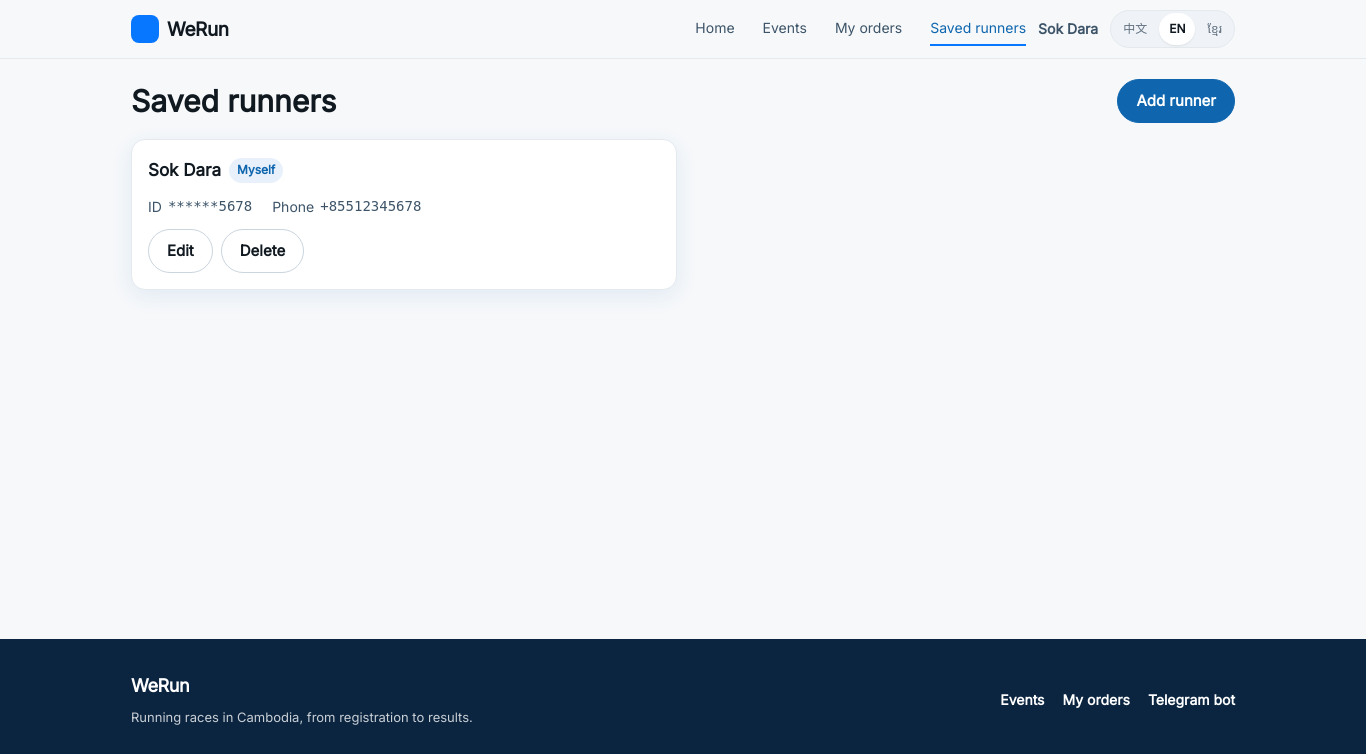
ProfilesPage › 编辑时证件号留空，请求体不带 idNo
The image size is (1366, 754).
Click the button with test id "profile-edit-7" at (180, 251), box [148,229,213,273]
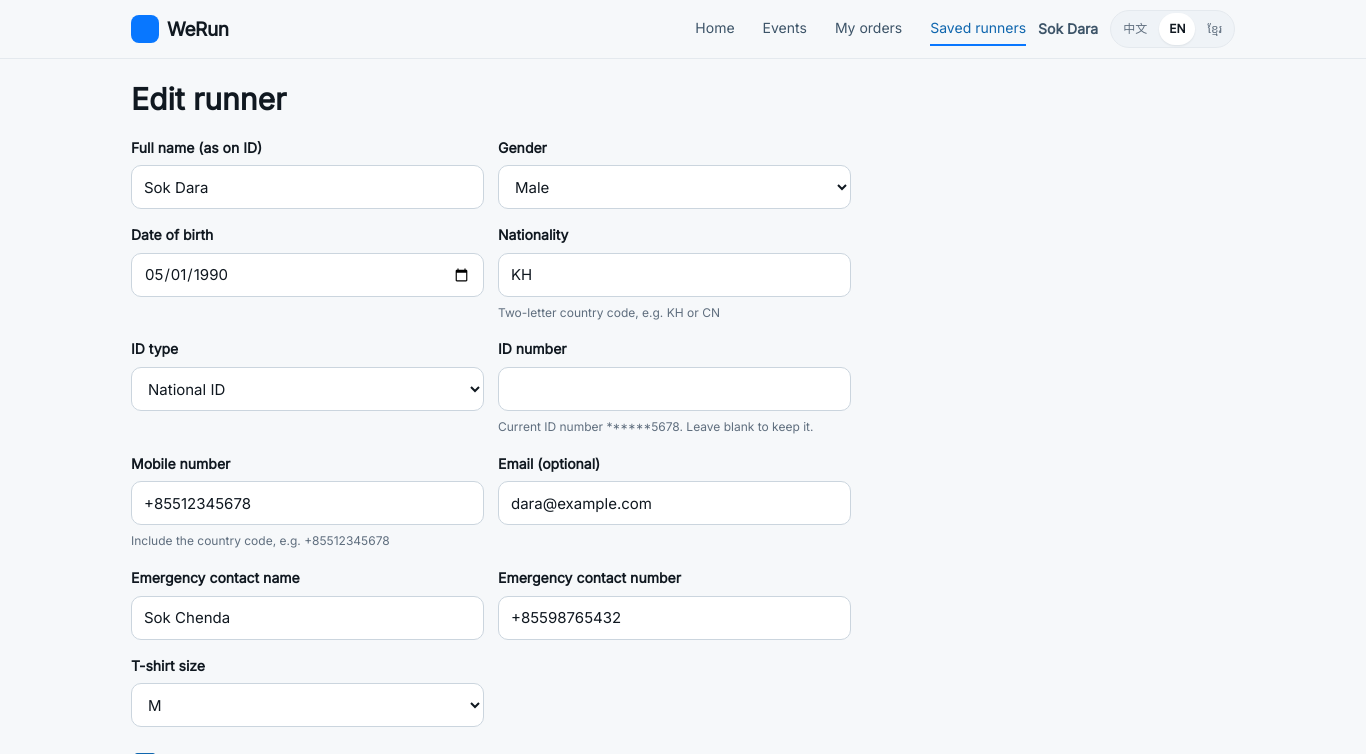
Expected: the field with test id "profile-idNo" is empty, [498,367,851,411]
Result: the field with test id "profile-fullName" holds "Sok Dara"
Result: the text "Current ID number ******5678. Leave blank to keep it." is shown at [498,417,851,438]
Replace the text in the field with test id "profile-fullName" with "Sok Dara Jr" at (308, 187), box [131,165,484,209]
(page scrolled)
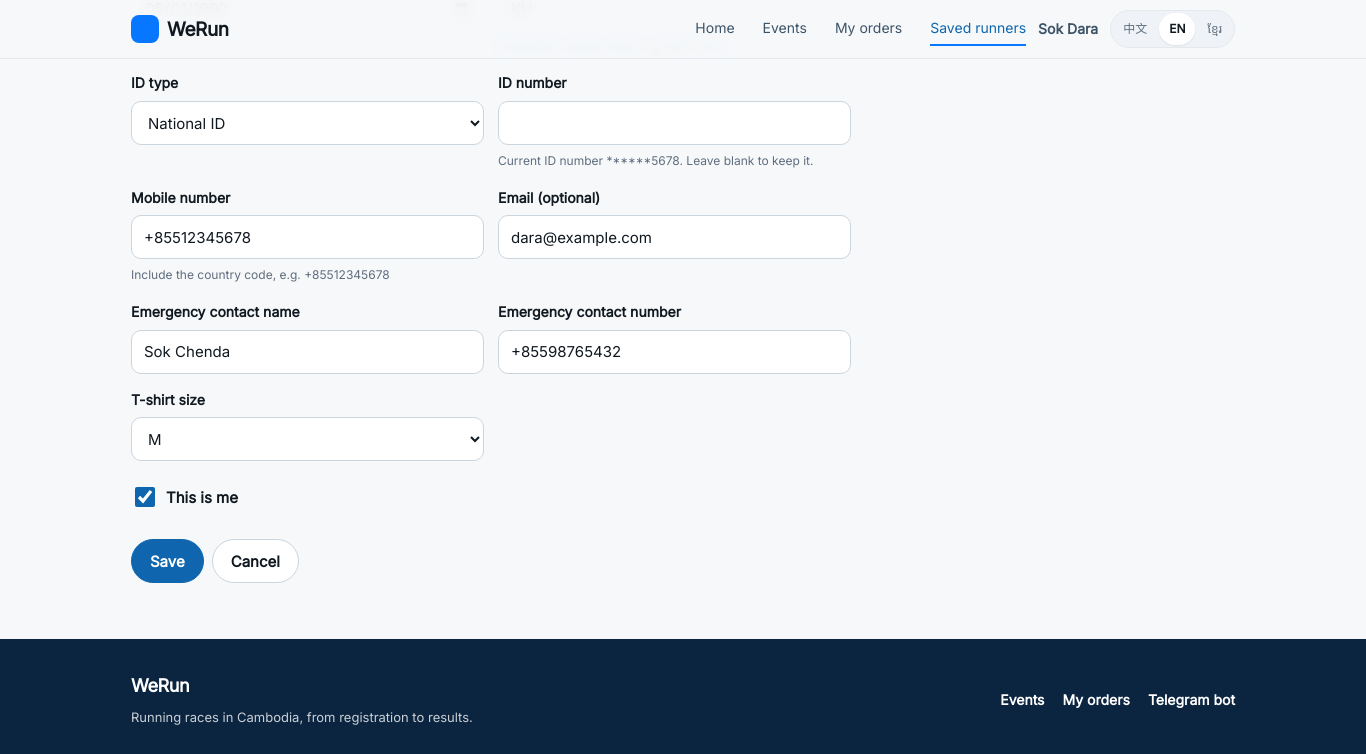
Click the button with test id "profile-submit" at (167, 562), box [131,540,204,584]
(page scrolled)
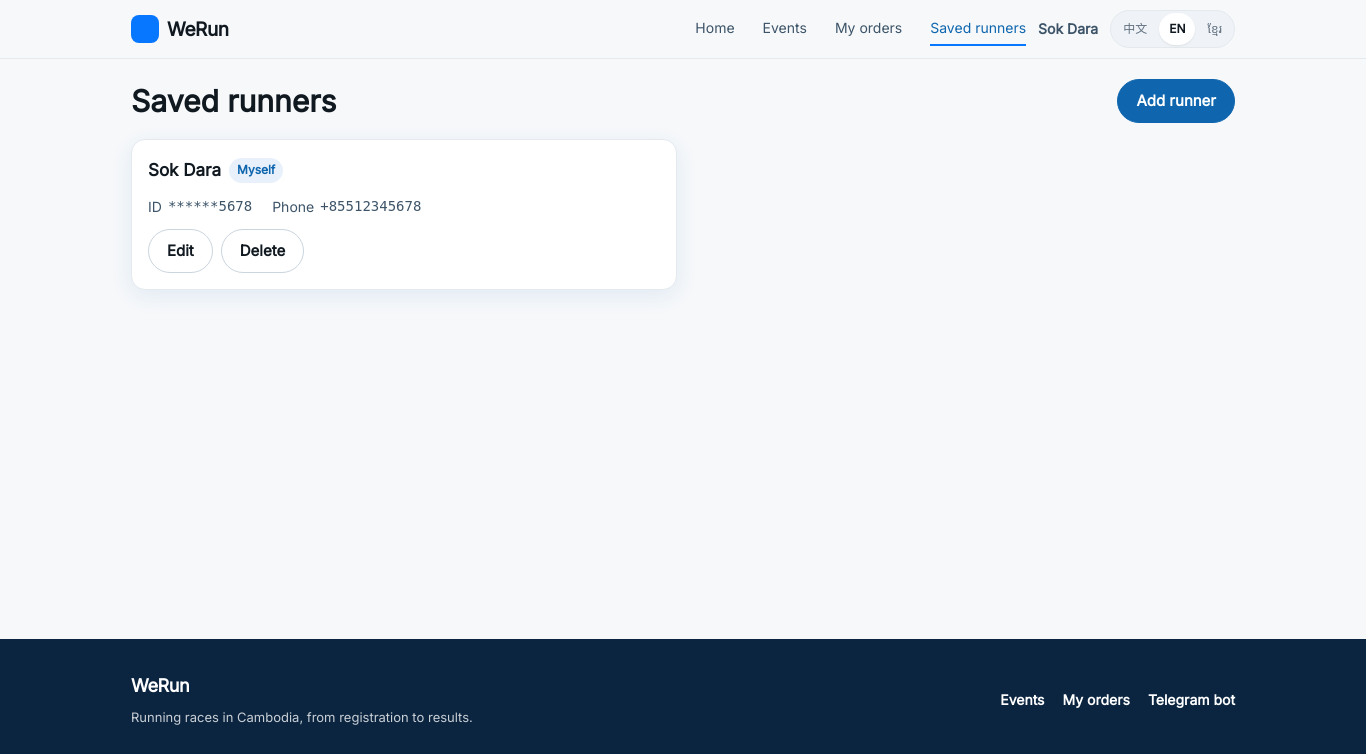
Result: the list item with test id "profile-item-7" is shown at [131,139,677,290]
